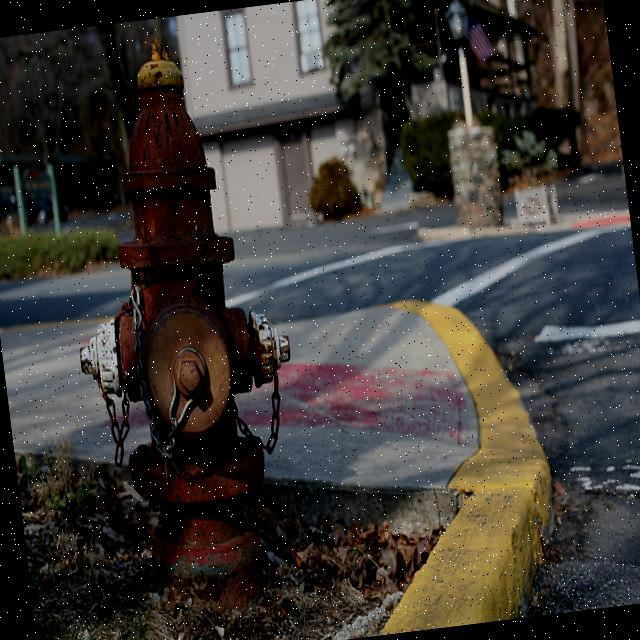fire_hydrant: (39, 16, 320, 622)
